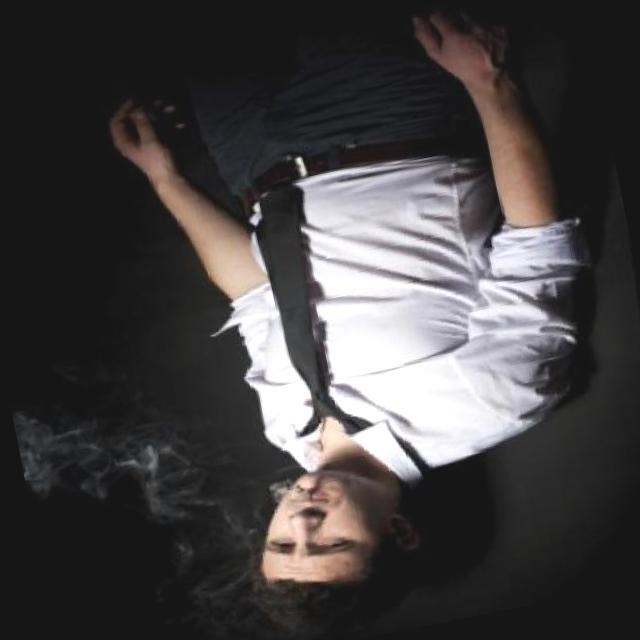smoke: (297, 478, 318, 501)
